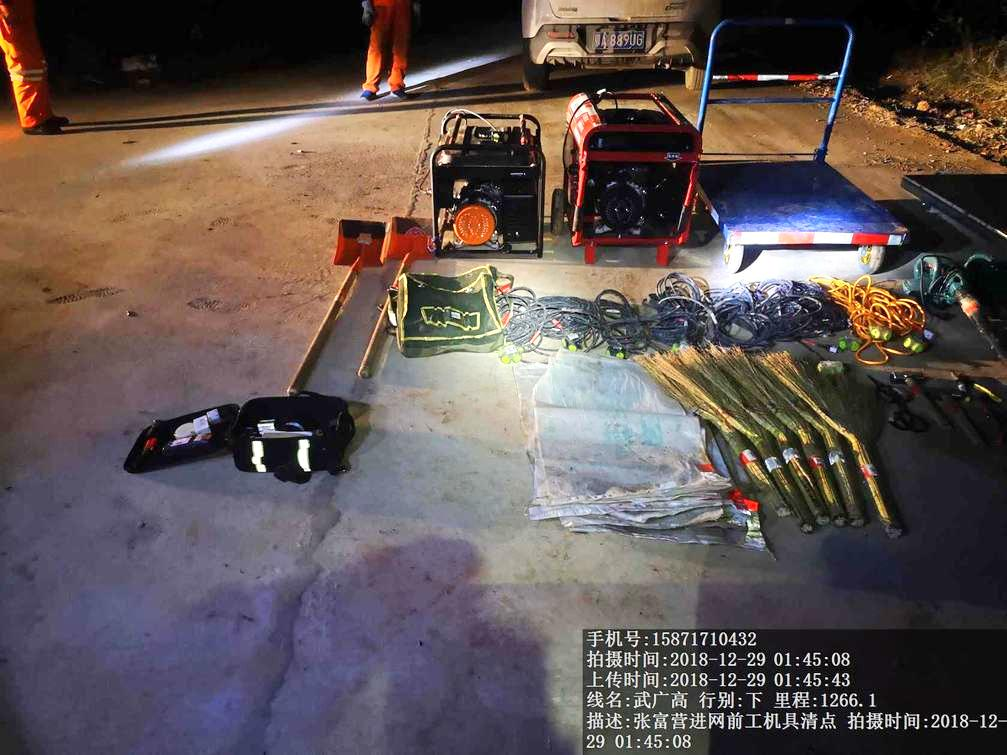BZD: (505, 355, 776, 555)
DJ: (548, 89, 700, 265), (428, 108, 547, 259)
DX: (818, 273, 922, 354), (701, 277, 777, 351)
GFJ: (905, 248, 1007, 355)
GJB: (117, 396, 362, 482), (389, 267, 507, 349)
SB: (771, 356, 909, 540)
TC: (697, 18, 911, 271)
TQ: (284, 219, 384, 393), (356, 214, 434, 374)
